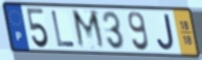3: (102, 10, 125, 51)
5: (25, 7, 50, 50)
9: (127, 11, 150, 53)
J: (156, 12, 176, 52)
L: (49, 9, 77, 49)
M: (70, 8, 108, 52)
